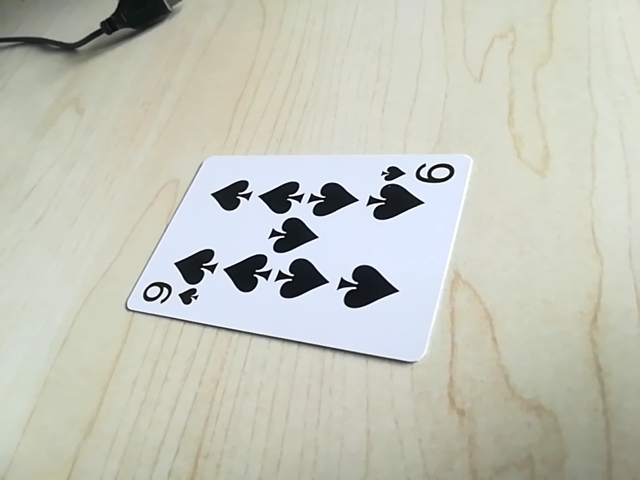ht 9: (378, 158, 462, 188), (132, 282, 203, 313)
